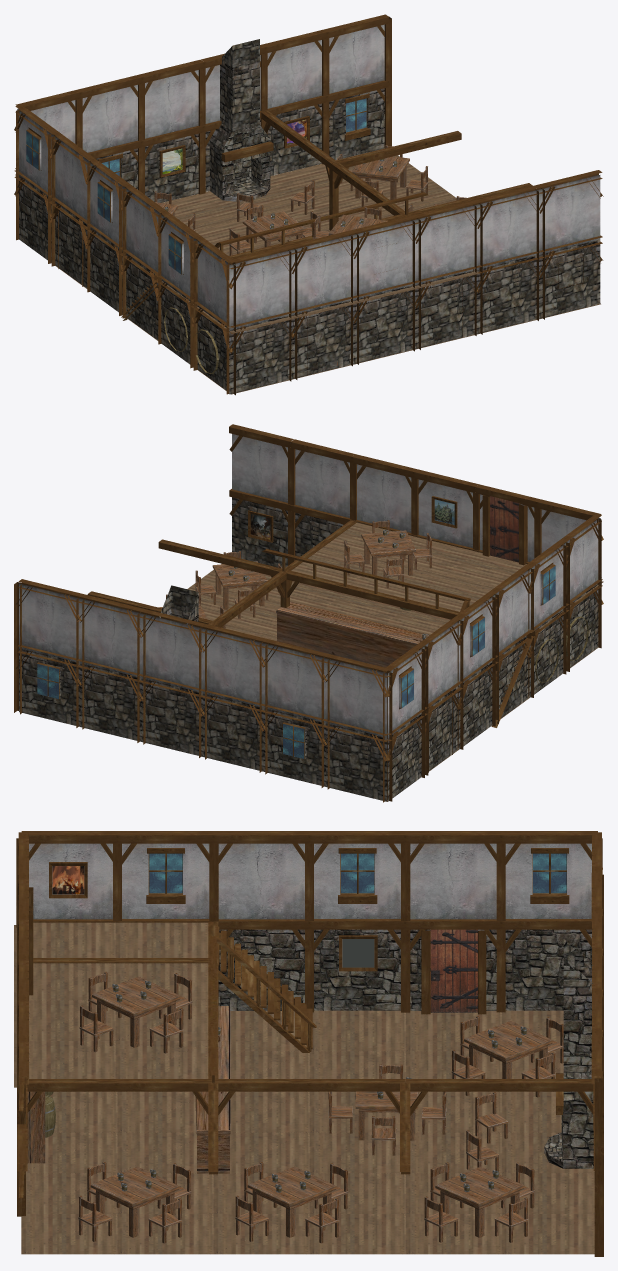
Rendered from Irish Pub.fbx.
3 renders of one model, top to bottom at view 1: azimuth 30°, elevation 25°; view 2: azimuth 150°, elevation 25°; view 3: azimuth 270°, elevation 25°, orthographic. The views are drawn at different scales.
Visible parts, largest first — view 1: SM_Wall_V2_01 (×13), SM_Wall_V3_01 (×3), SM_Wall_V1_01 (×2), SM_Floor_01, SM_Pillar_T_02 (×10), SM_Fireplace, SM_Beam_T_02 (×3), SM_Window_T_01 (×3), SM_Pillar_T_01 (×2), SM_Beam_T_01 (×2), SM_Table_03, SM_Table_02 (+10 smaller); view 2: SM_Wall_V2_01 (×13), SM_Wall_V1_01 (×2), SM_Wall_V3_01 (×3), SM_Floor_02, SM_Pillar_T_02 (×8), SM_Floor_01, SM_Bar_Counter_M, SM_Beam_T_02 (×6), SM_Door_02, SM_Pillar_C_01 (×3), SM_Pillar_T_01 (×2), SM_Window_T_01 (×3) (+12 smaller); view 3: SM_Floor_01, SM_Wall_V3_01 (×3), SM_Wall_V2_01 (×3), SM_Floor_02, SM_Beam_T_02 (×6), SM_Fireplace, SM_Window_T_01 (×3), SM_Door_01, SM_Pillar_T_02 (×4), SM_Beam_B_02 (×4), SM_Bar_Counter_M, SM_Table_05 (+32 smaller).
Boxes of the visible parts, <box> form: SM_Wall_V2_01 (×13): <box>18,40,600,394</box>; SM_Wall_V3_01 (×3): <box>17,109,195,364</box>; SM_Wall_V1_01 (×2): <box>82,24,384,189</box>; SM_Floor_01: <box>55,148,600,394</box>; SM_Pillar_T_02 (×10): <box>48,38,544,381</box>; SM_Fireplace: <box>210,39,273,201</box>; SM_Beam_T_02 (×3): <box>15,29,327,113</box>; SM_Window_T_01 (×3): <box>26,127,183,274</box>; SM_Pillar_T_01 (×2): <box>138,16,391,194</box>; SM_Beam_T_01 (×2): <box>77,14,389,98</box>; SM_Table_03: <box>352,153,409,200</box>; SM_Table_02: <box>242,211,306,249</box>; SM_Wall_V2_01 (×13): <box>80,434,600,801</box>; SM_Wall_V1_01 (×2): <box>19,583,325,786</box>; SM_Wall_V3_01 (×3): <box>388,544,564,801</box>; SM_Floor_02: <box>291,522,526,611</box>; SM_Pillar_T_02 (×8): <box>76,441,569,789</box>; SM_Floor_01: <box>187,564,598,801</box>; SM_Bar_Counter_M: <box>276,601,429,667</box>; SM_Beam_T_02 (×6): <box>229,424,601,522</box>; SM_Door_02: <box>482,495,527,565</box>; SM_Pillar_C_01 (×3): <box>383,568,533,802</box>; SM_Pillar_T_01 (×2): <box>14,582,268,774</box>; SM_Window_T_01 (×3): <box>399,562,555,709</box>; SM_Floor_01: <box>21,1010,594,1254</box>; SM_Wall_V3_01 (×3): <box>122,843,591,1010</box>; SM_Wall_V2_01 (×3): <box>29,843,496,1010</box>; SM_Floor_02: <box>29,922,208,1078</box>; SM_Beam_T_02 (×6): <box>21,831,597,843</box>; SM_Fireplace: <box>544,939,593,1168</box>; SM_Window_T_01 (×3): <box>146,848,569,903</box>; SM_Door_01: <box>421,929,486,1014</box>; SM_Pillar_T_02 (×4): <box>17,843,505,1216</box>; SM_Beam_B_02 (×4): <box>214,919,591,929</box>; SM_Bar_Counter_M: <box>195,1006,230,1173</box>; SM_Table_05: <box>90,1166,179,1237</box>.
Size of the model in its own units: 1222 by 483 by 1228.
Materials: 10 (9 with a texture image).
